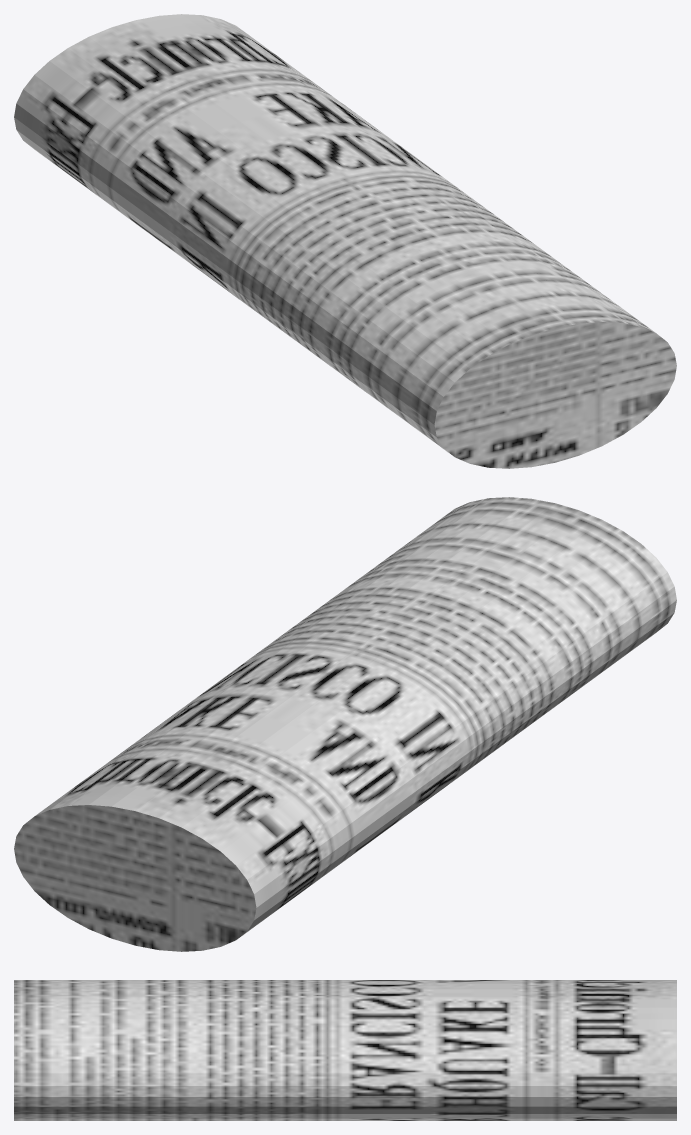
File: Newspaper.fbx
3 renders of one model, top to bottom at view 1: azimuth 30°, elevation 25°; view 2: azimuth 150°, elevation 25°; view 3: azimuth 270°, elevation 25°, orthographic. The views are drawn at different scales.
Parts seen in each view (by area): view 1: Cylinder; view 2: Cylinder; view 3: Cylinder.
Boxes of the visible parts, box(x1,y1,x2,y2) form: Cylinder: box(14, 14, 676, 468); Cylinder: box(14, 497, 676, 951); Cylinder: box(14, 980, 676, 1120).
Bounding box in the file's own units: 71.23 × 37.76 × 214.
